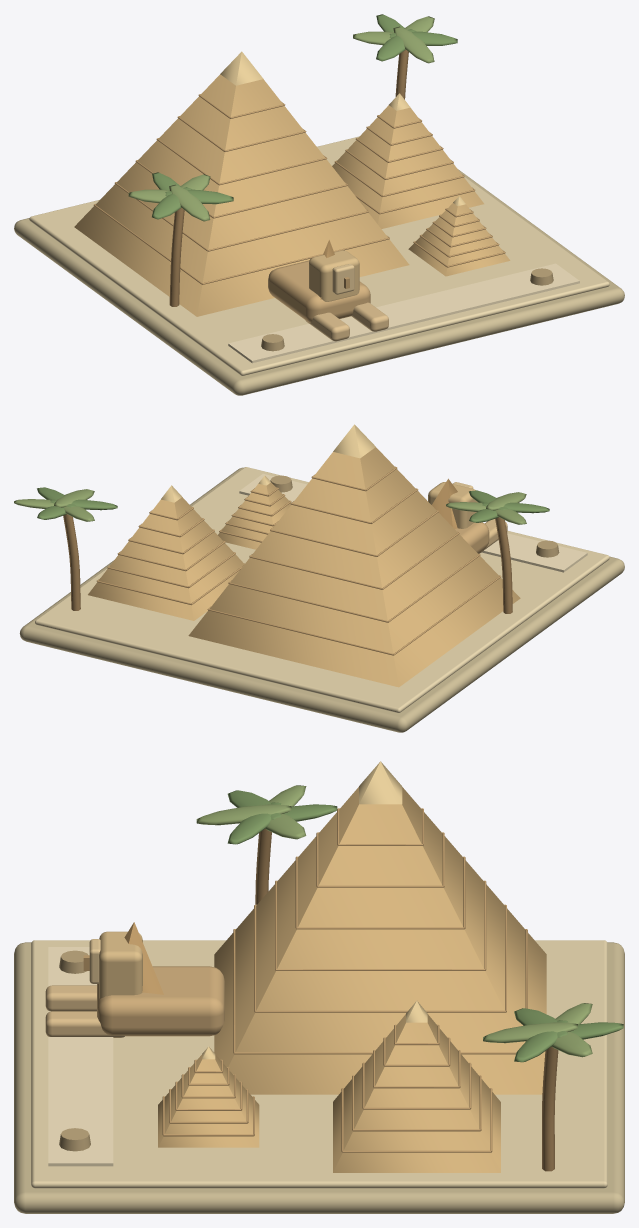
The model's file is cairo.glb.
The picture shows the model from 3 angles, top to bottom: view 1: azimuth 30°, elevation 25°; view 2: azimuth 150°, elevation 25°; view 3: azimuth 270°, elevation 25°; orthographic projection. The views are drawn at different scales.
Visible parts, largest first — view 1: 开罗 · 金字塔庭院; view 2: 开罗 · 金字塔庭院; view 3: 开罗 · 金字塔庭院.
Boxes of the visible parts, x1,y1,x2,y2 form: 开罗 · 金字塔庭院: (14,14,624,395); 开罗 · 金字塔庭院: (14,424,624,732); 开罗 · 金字塔庭院: (14,761,624,1213).
Size of the model in its own units: 3.37 by 1.68 by 3.2.
